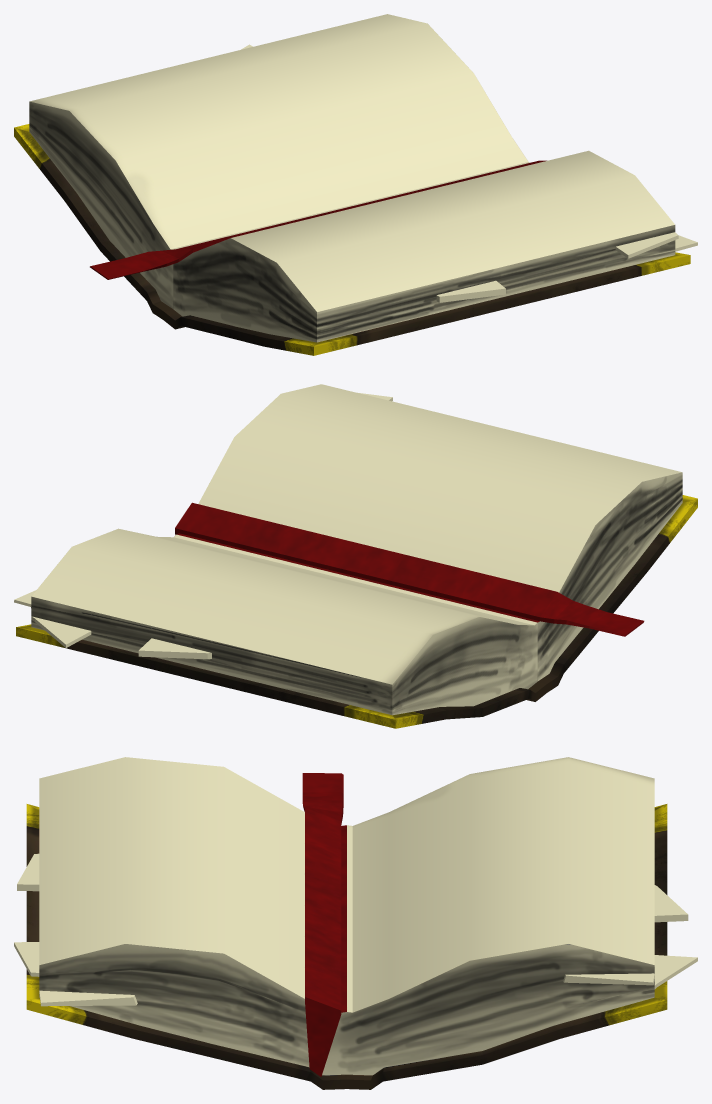
File: spellBook.fbx
3 renders of one model, top to bottom at view 1: azimuth 30°, elevation 25°; view 2: azimuth 150°, elevation 25°; view 3: azimuth 270°, elevation 25°, orthographic. The views are drawn at different scales.
Parts seen in each view (by area): view 1: pCube1; view 2: pCube1; view 3: pCube1.
Boxes of the visible parts, x1=… form: pCube1: x1=14, y1=14, x2=697, y2=355; pCube1: x1=14, y1=384, x2=697, y2=728; pCube1: x1=14, y1=757, x2=697, y2=1089.
Size of the model in its own units: 1.24 by 0.3353 by 1.47.
